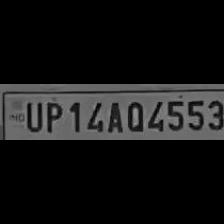1: (64, 99, 82, 133)
3: (204, 97, 222, 131)
4: (144, 96, 164, 132), (84, 97, 104, 132)
5: (164, 96, 184, 132), (184, 97, 204, 131)
A: (104, 97, 122, 132)
P: (42, 99, 62, 133)
Q: (122, 97, 144, 132)
U: (23, 98, 43, 132)
